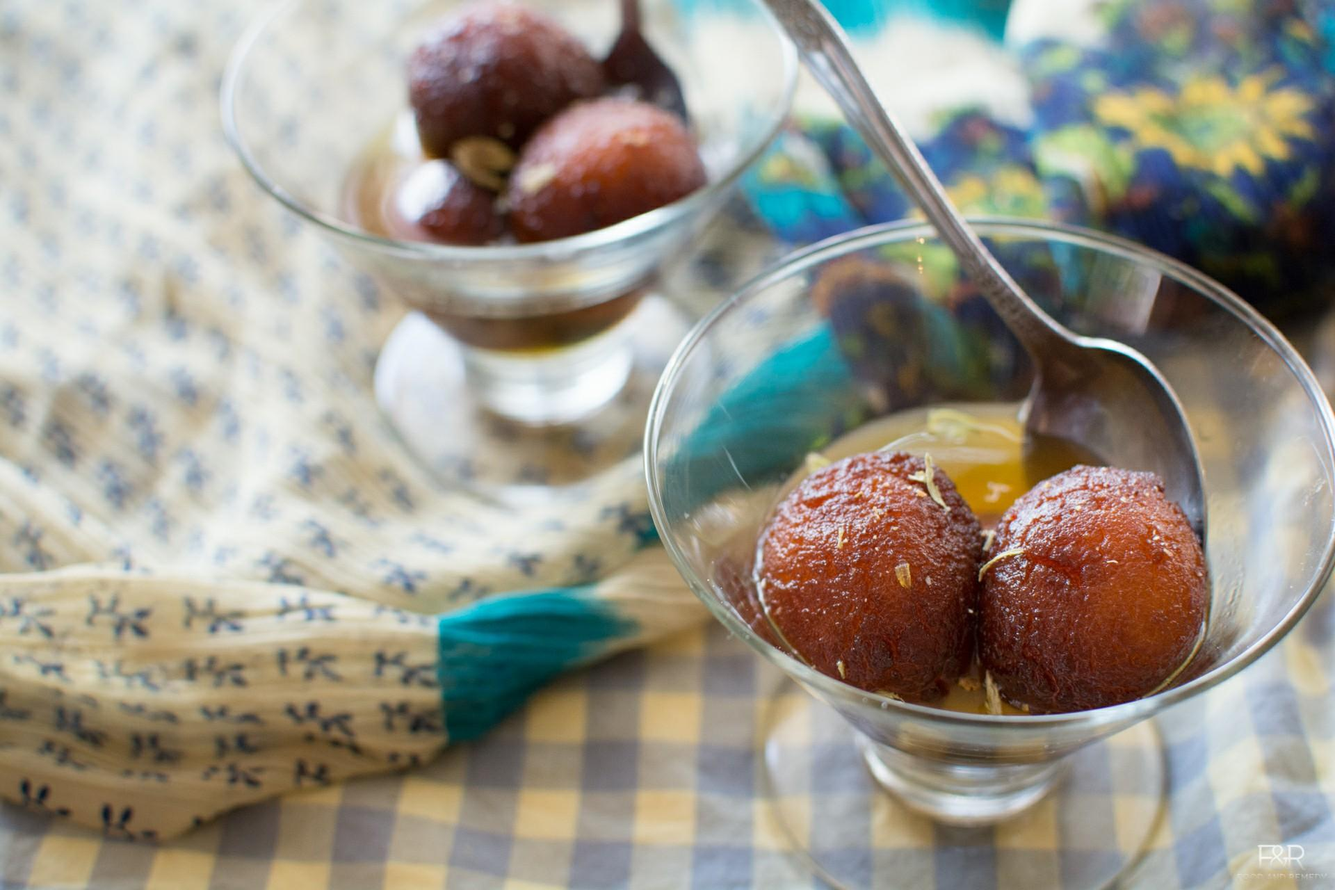GulabJamun: (977, 461, 1212, 712), (756, 450, 979, 696), (407, 9, 610, 155), (508, 109, 708, 241), (400, 156, 508, 248)
